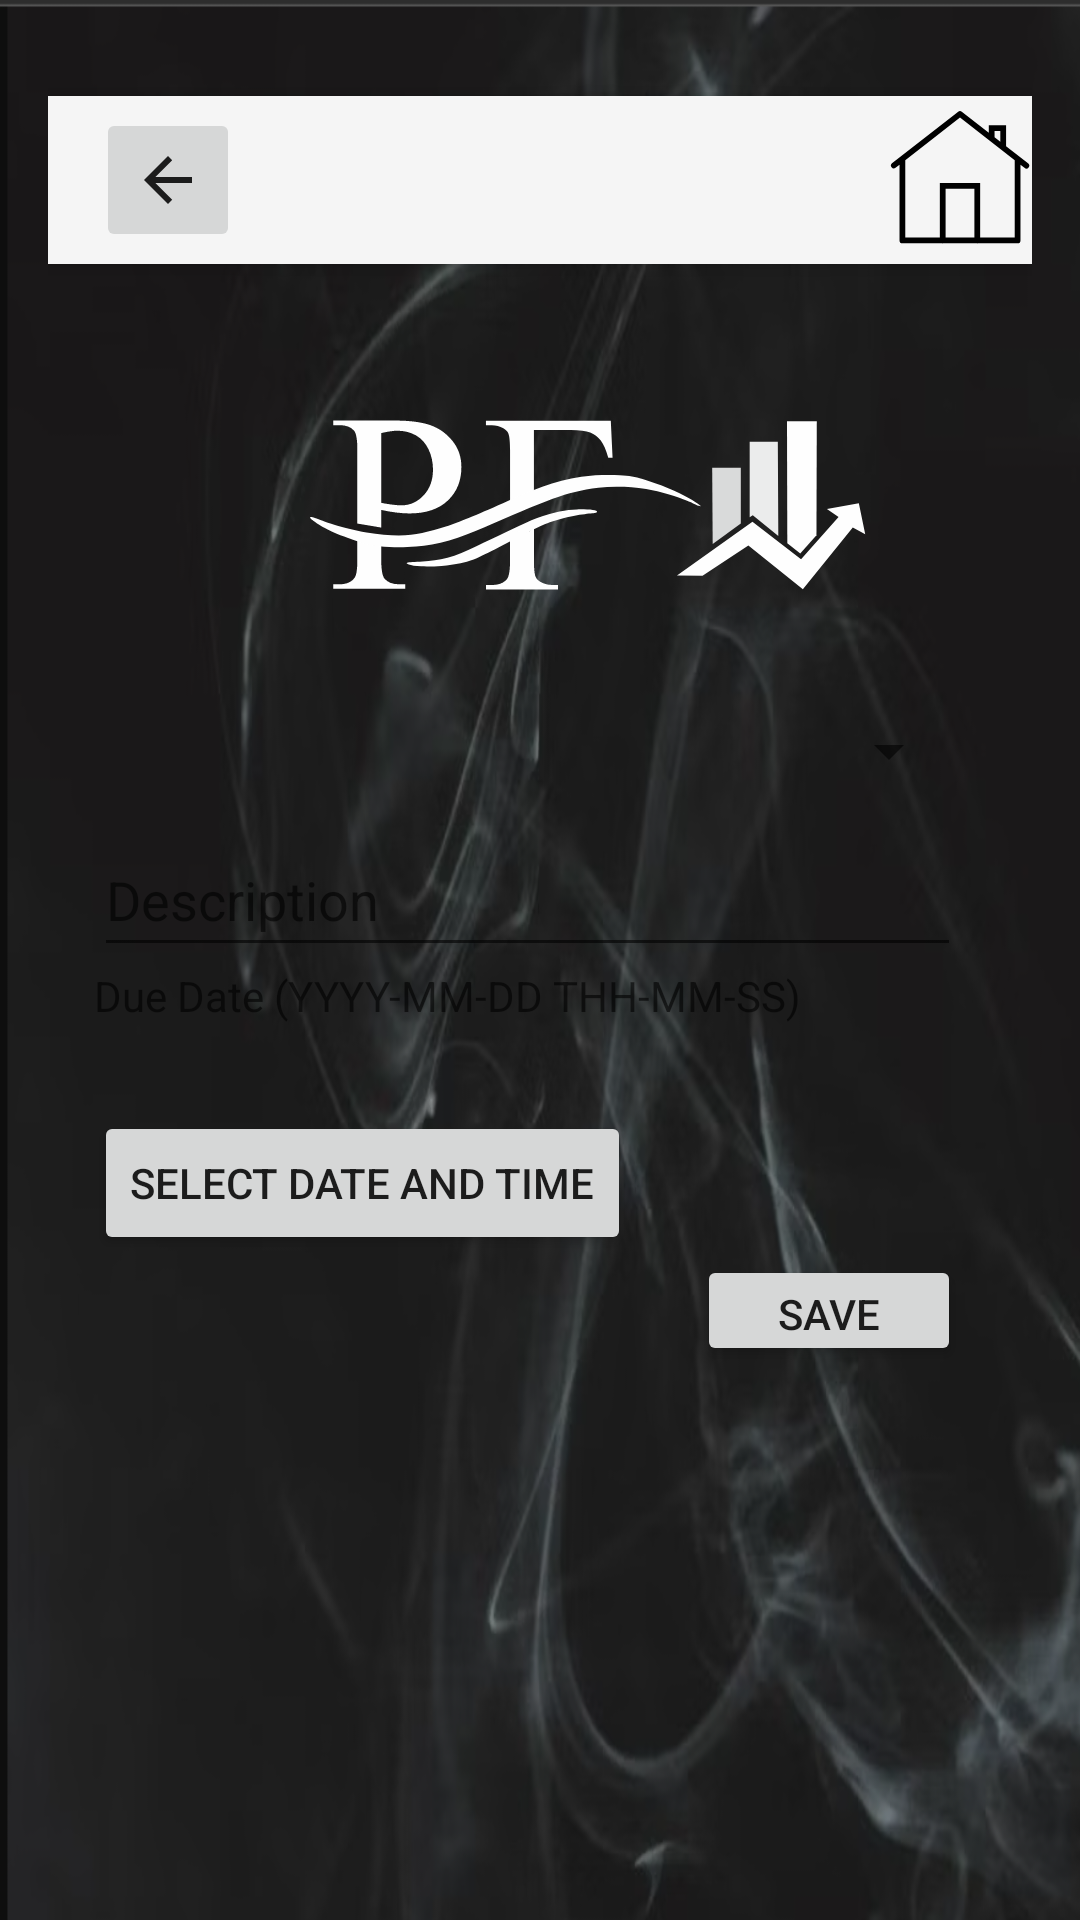

Locate icon controls on the screen. Image size 1080x1920, boxes as (left=x1, top=y1, right=x2, bottom=y2).
Go to home activity: (left=890, top=111, right=1030, bottom=244)
